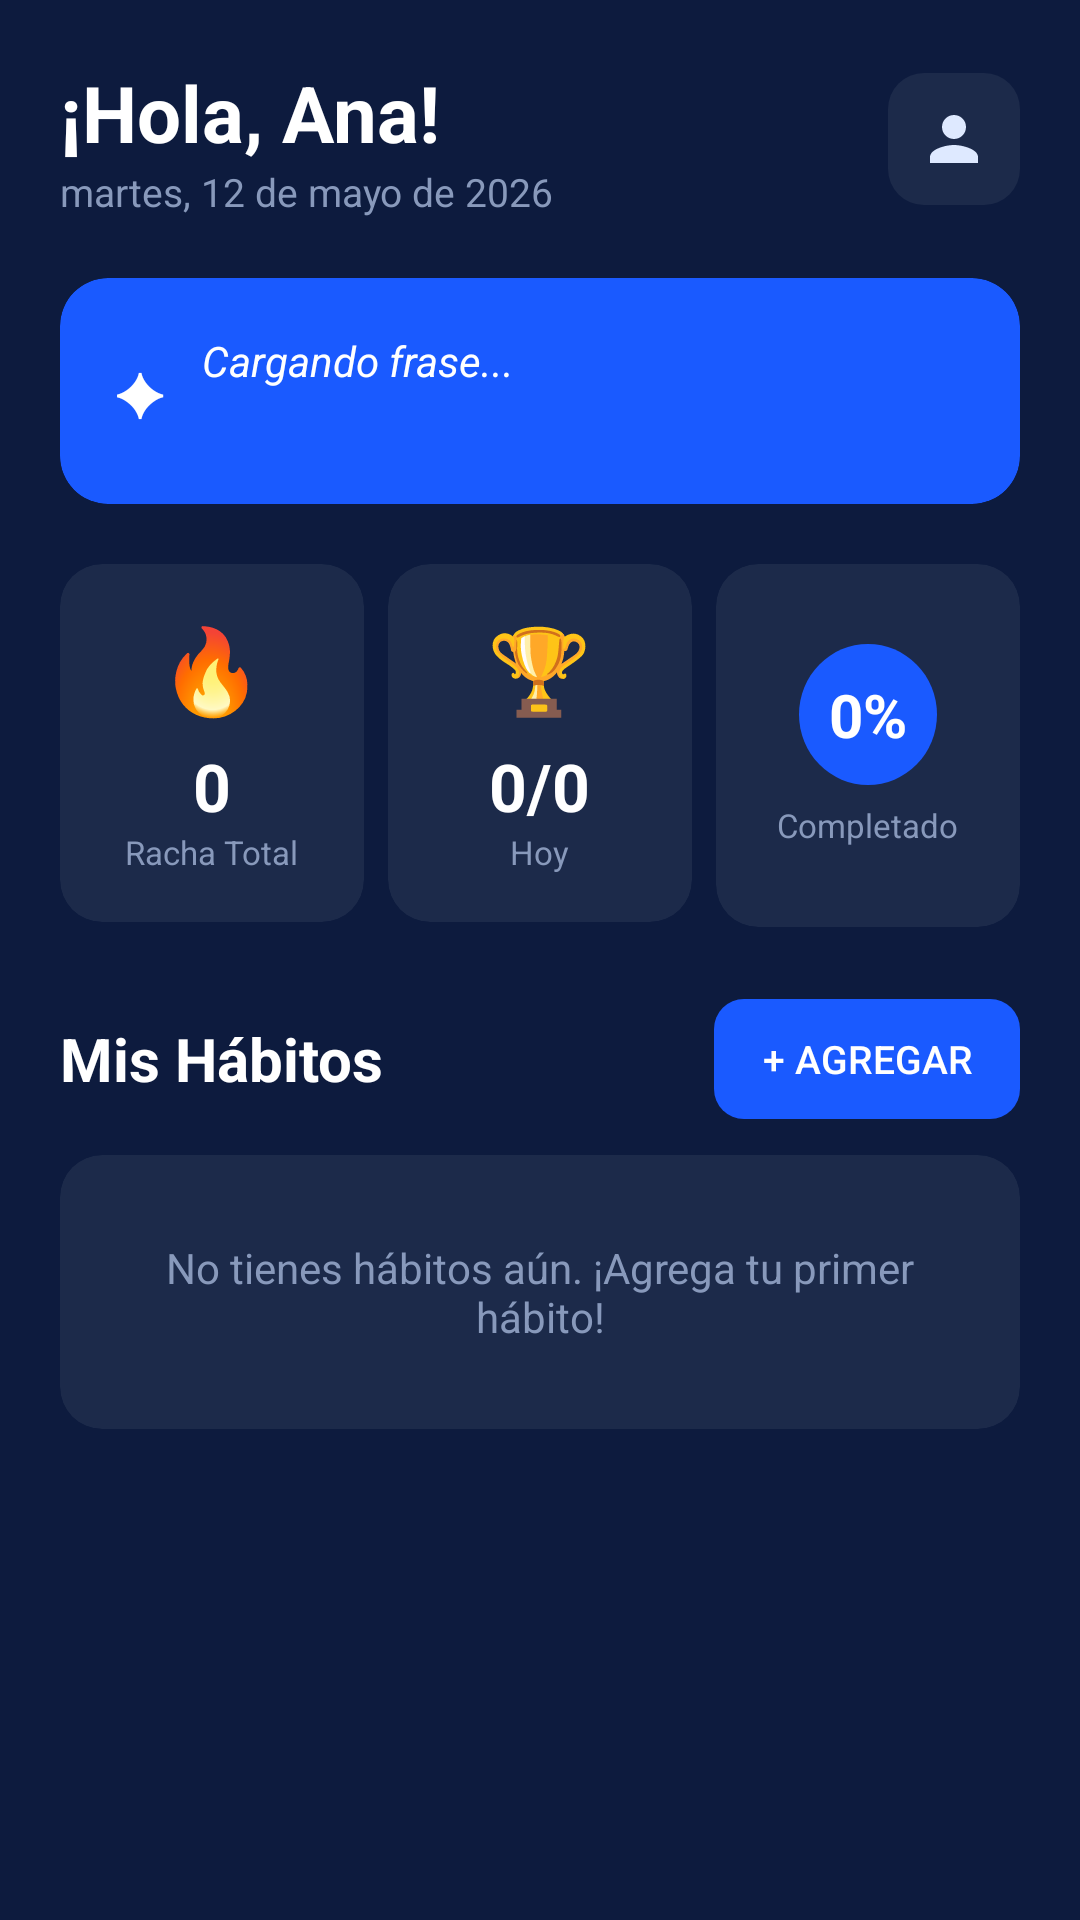

Icon bounding boxes for this 1080×1920 phone screenshot, format Rect(x1, y1, x2, y2):
Mi perfil: Rect(930, 115, 978, 163)
